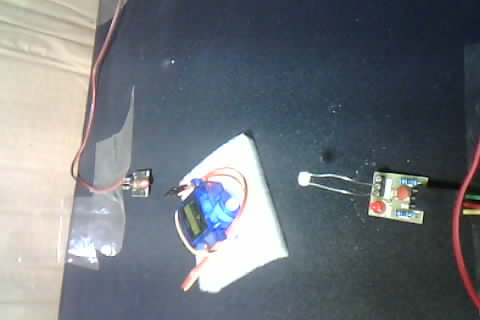motor: (159, 130, 270, 293)
